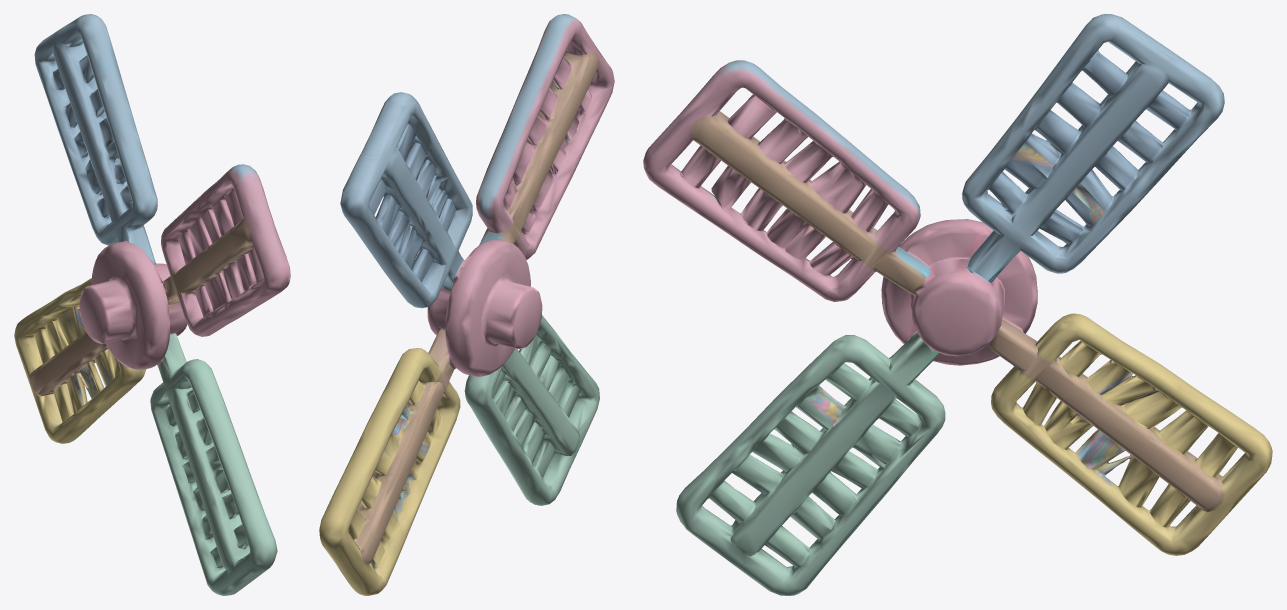
3 renders of one model, left to right at view 1: azimuth 30°, elevation 25°; view 2: azimuth 150°, elevation 25°; view 3: azimuth 270°, elevation 25°, orthographic. The views are drawn at different scales.
Visible parts, largest first — view 1: repaired; view 2: repaired; view 3: repaired.
Part boxes in pixels (x1,y1,x2,y2): repaired: (14, 14, 290, 595); repaired: (319, 14, 614, 595); repaired: (643, 14, 1272, 595).
Bounding box in the file's own units: 0.1773 × 0.9985 × 0.9844.
1 material, 1 textured.
